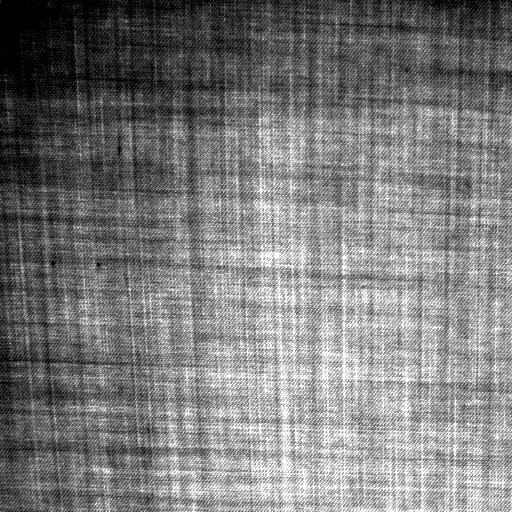fabric_thick_weft: (47, 256, 105, 274)
